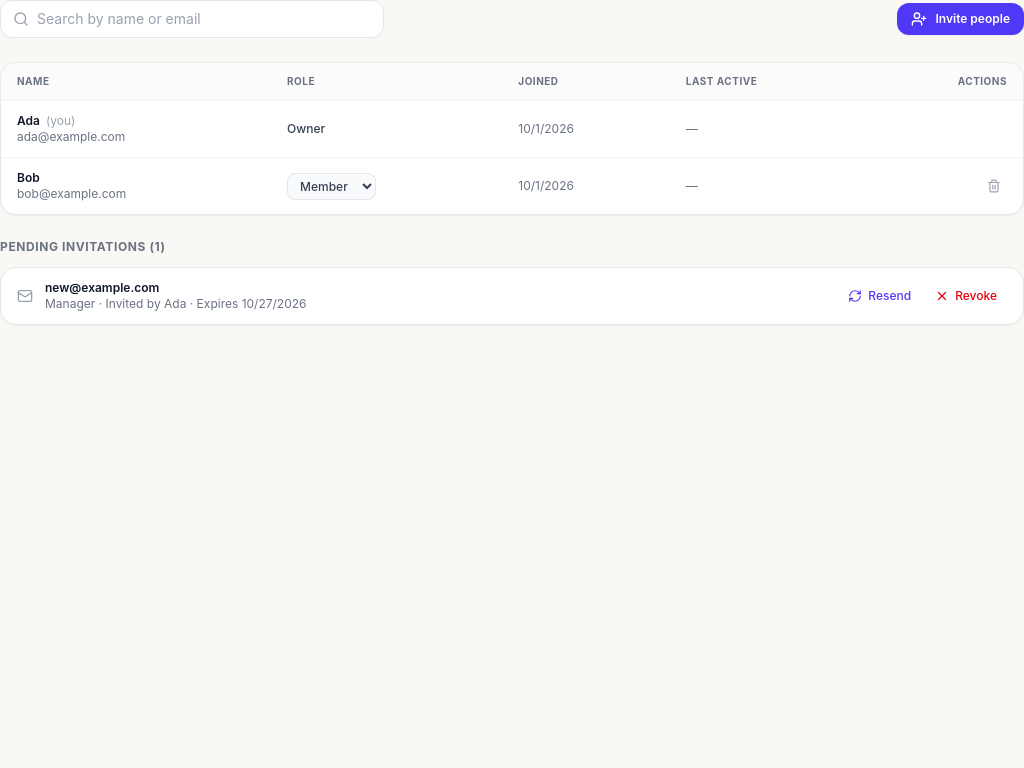
MembersPanel › removes someone only after confirming
The width and height of the screenshot is (1024, 768).
Click the button named "Remove Bob". click: (994, 186)
box: [981,173,1007,199]
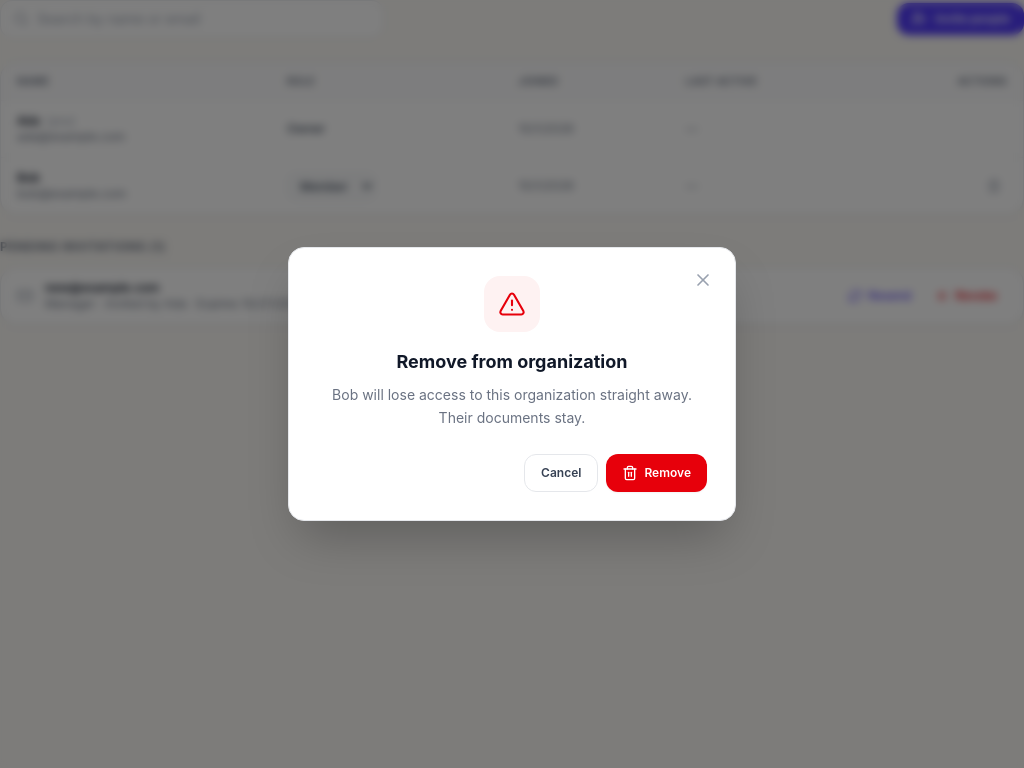
Click the button "Remove". click: (657, 473)
box: [606,454,707,492]
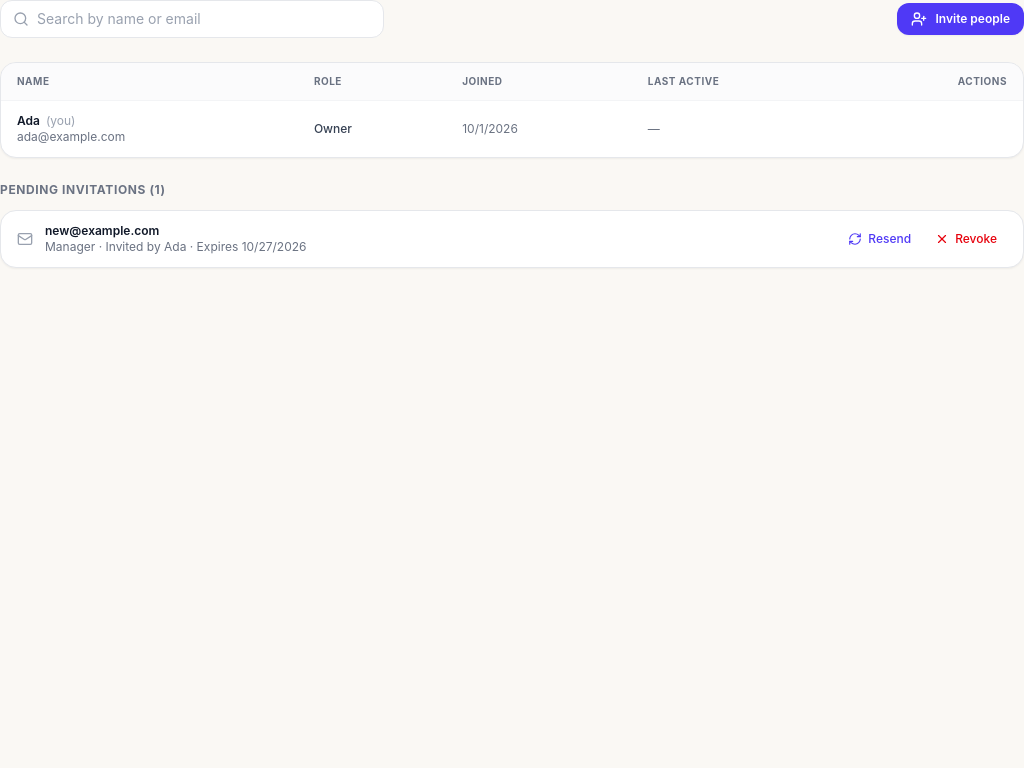
Now the text "bob@example.com" is gone
